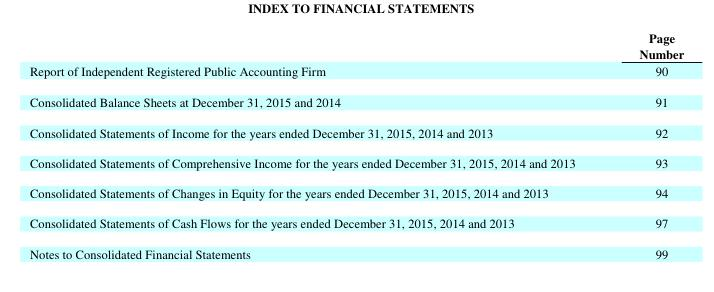table: (29, 29, 683, 261)
table column: (29, 29, 606, 261), (606, 29, 683, 261)
table column header: (29, 29, 683, 62)
table row: (29, 29, 683, 62), (29, 85, 683, 116), (29, 146, 683, 177), (29, 116, 683, 146), (29, 177, 683, 207), (29, 207, 683, 237), (29, 237, 683, 261), (29, 62, 683, 85)
